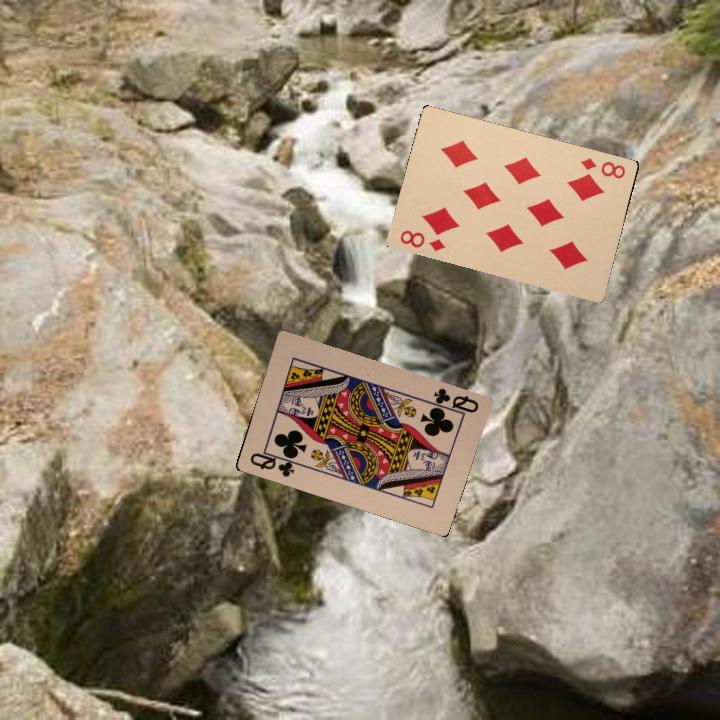8d: (396, 226, 448, 254), (576, 154, 628, 181)
Qc: (426, 384, 481, 419), (246, 447, 300, 480)
